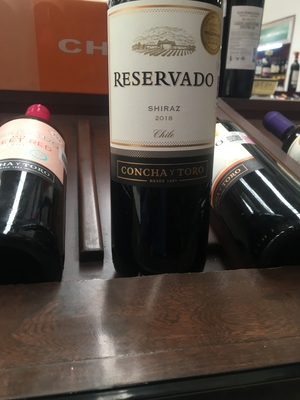reservado shiraz: (103, 1, 227, 289)
